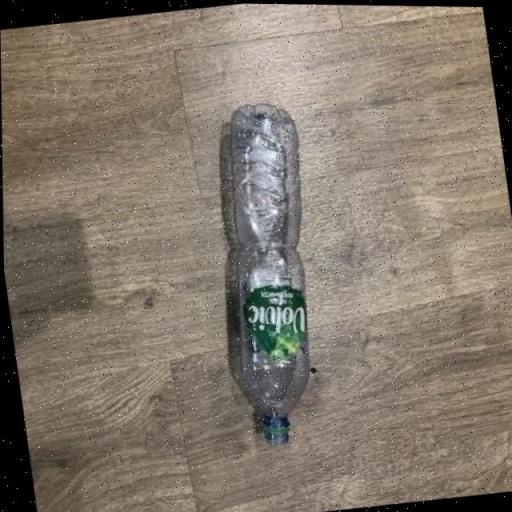plastic: (191, 96, 340, 450)
